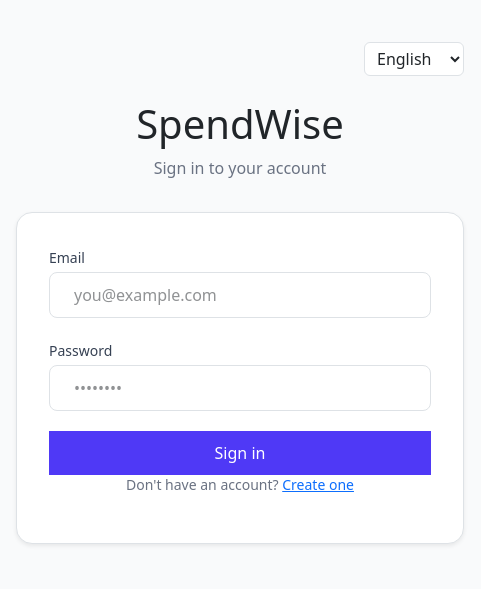
LoginPage › shows the backend error inline when the login fails
The width and height of the screenshot is (481, 589).
Type "a@b.com" into the field with placeholder "you@example.com" at [240, 295], box [49,272,431,318]
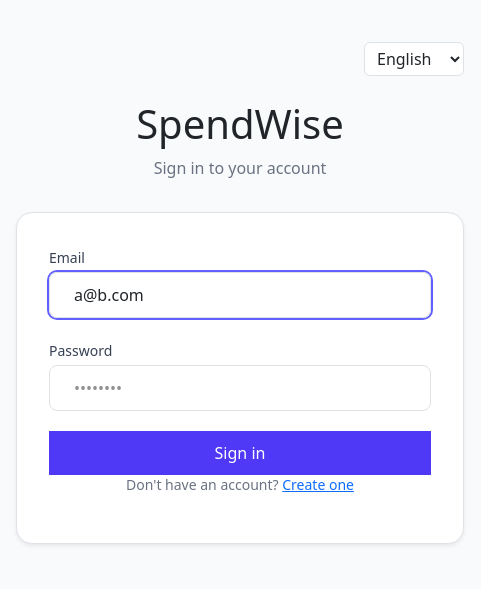
Type "wrong" into the password field with placeholder "••••••••" at [240, 388], box [49,365,431,411]
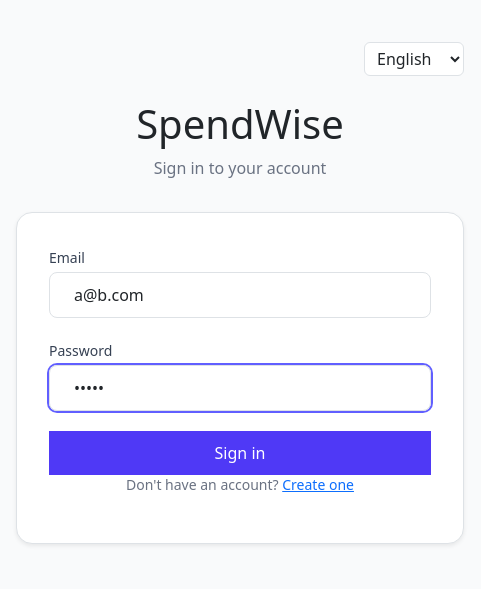
Click the button "Sign in" at [240, 453], box [49,431,431,475]
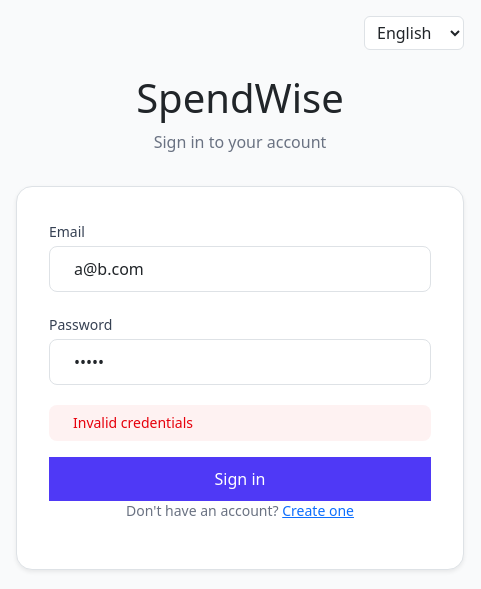
Expected: the text "Invalid credentials" is shown, [49,405,431,441]
